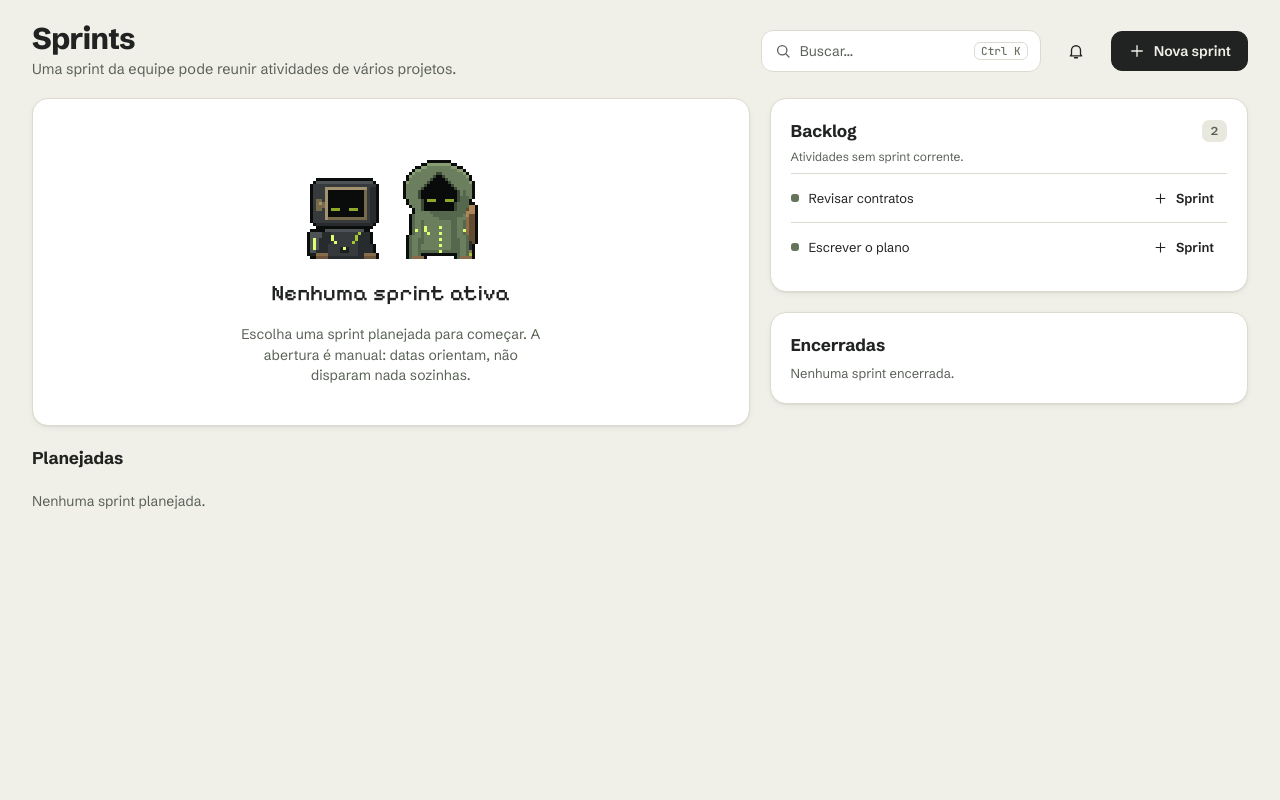
Scenario: Sprints › refuses dates in the wrong order
The width and height of the screenshot is (1280, 800).
Click the button "Nova sprint": (1179,51) [1111,31,1248,71]
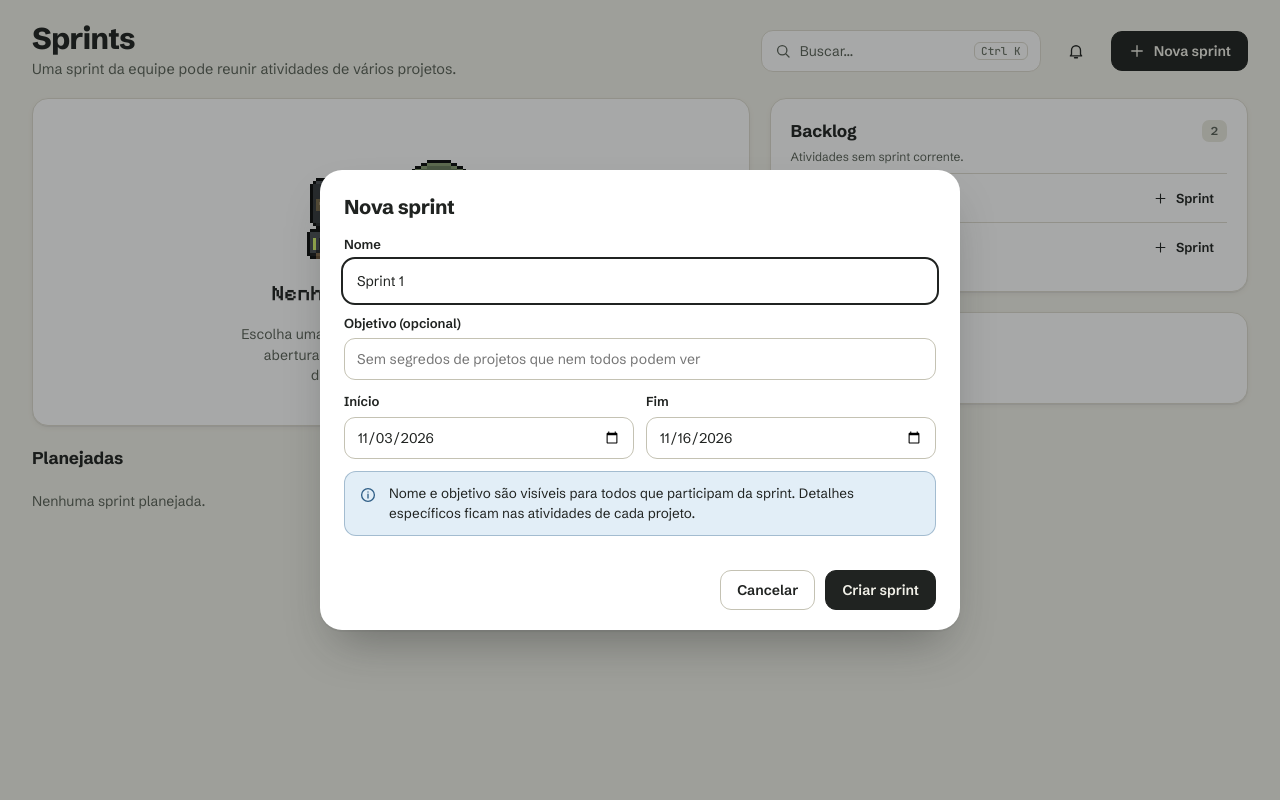
In the date field labelled "Início": (489,438) [344,417,634,459], type "2026-12-01"
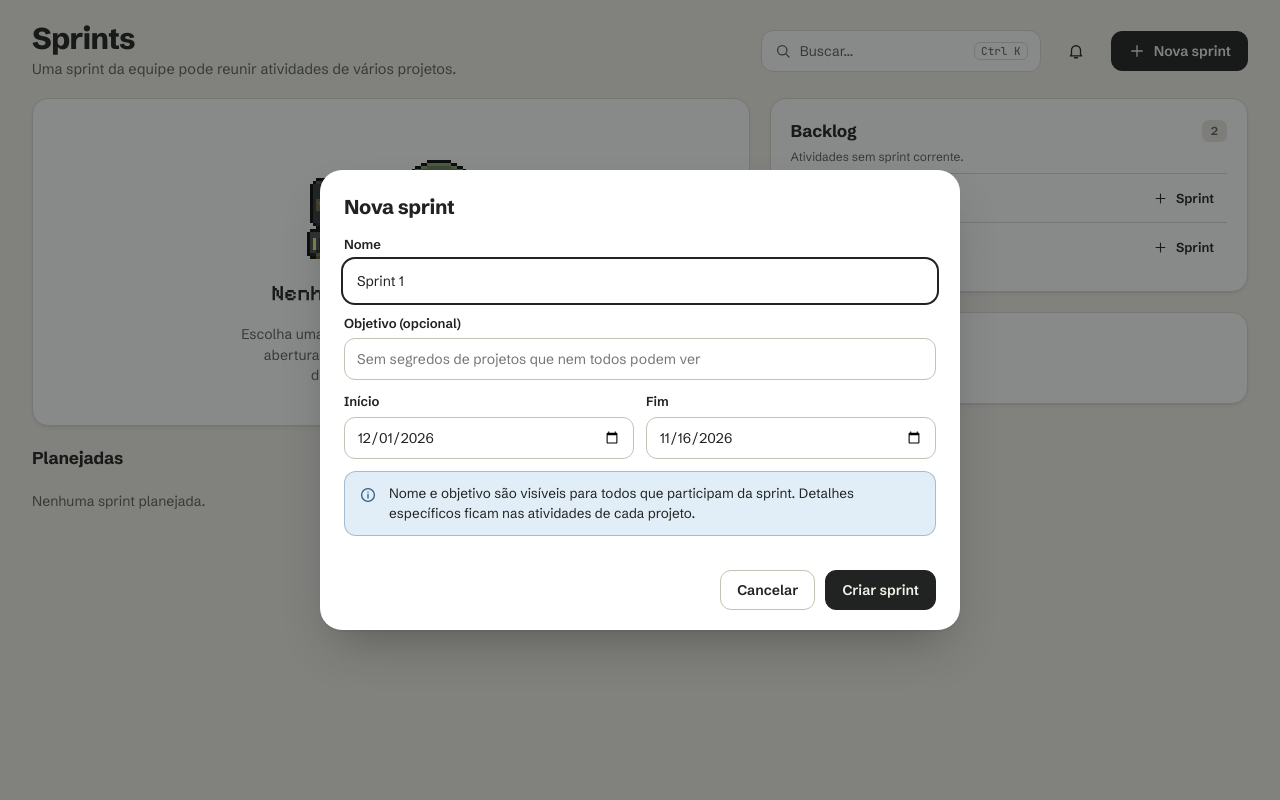
In the date field labelled "Fim": (791,438) [646,417,936,459], type "2026-11-01"
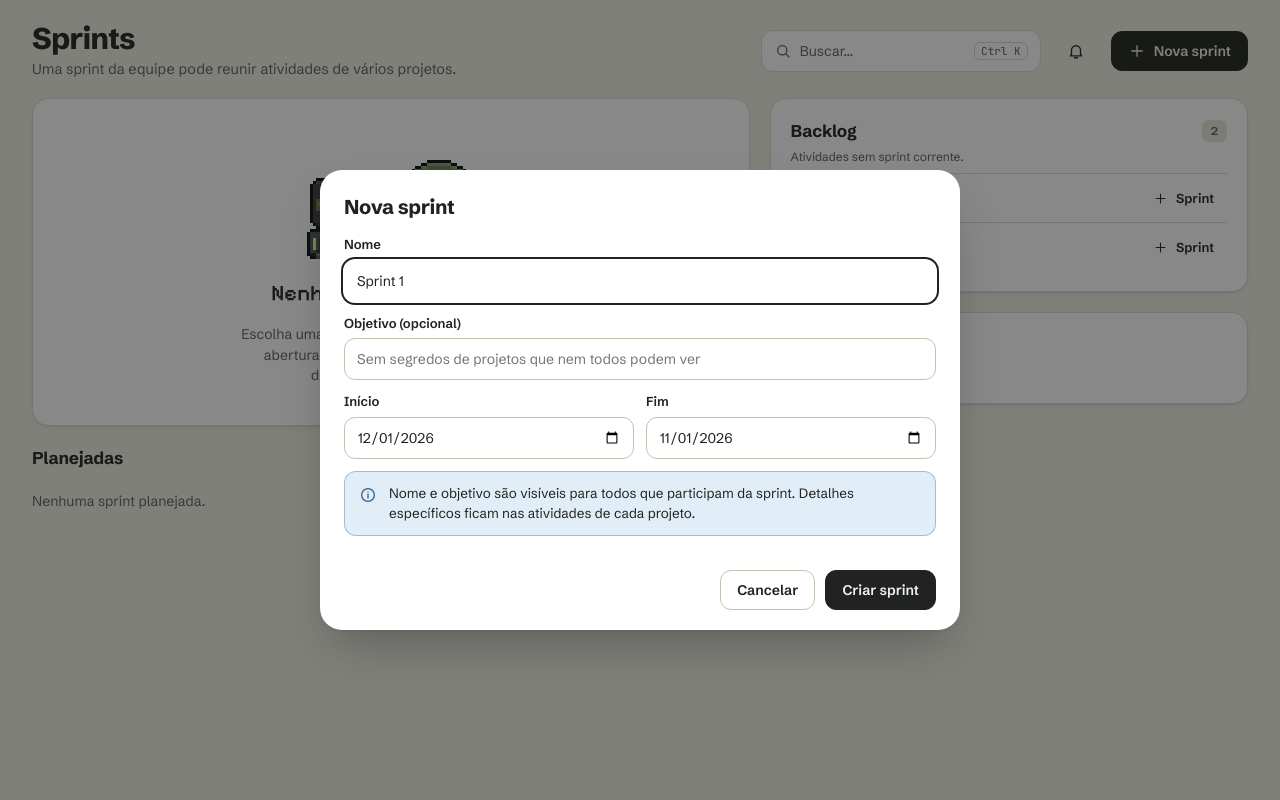
Submit the form labelled "Nome", box [320,227,960,630]
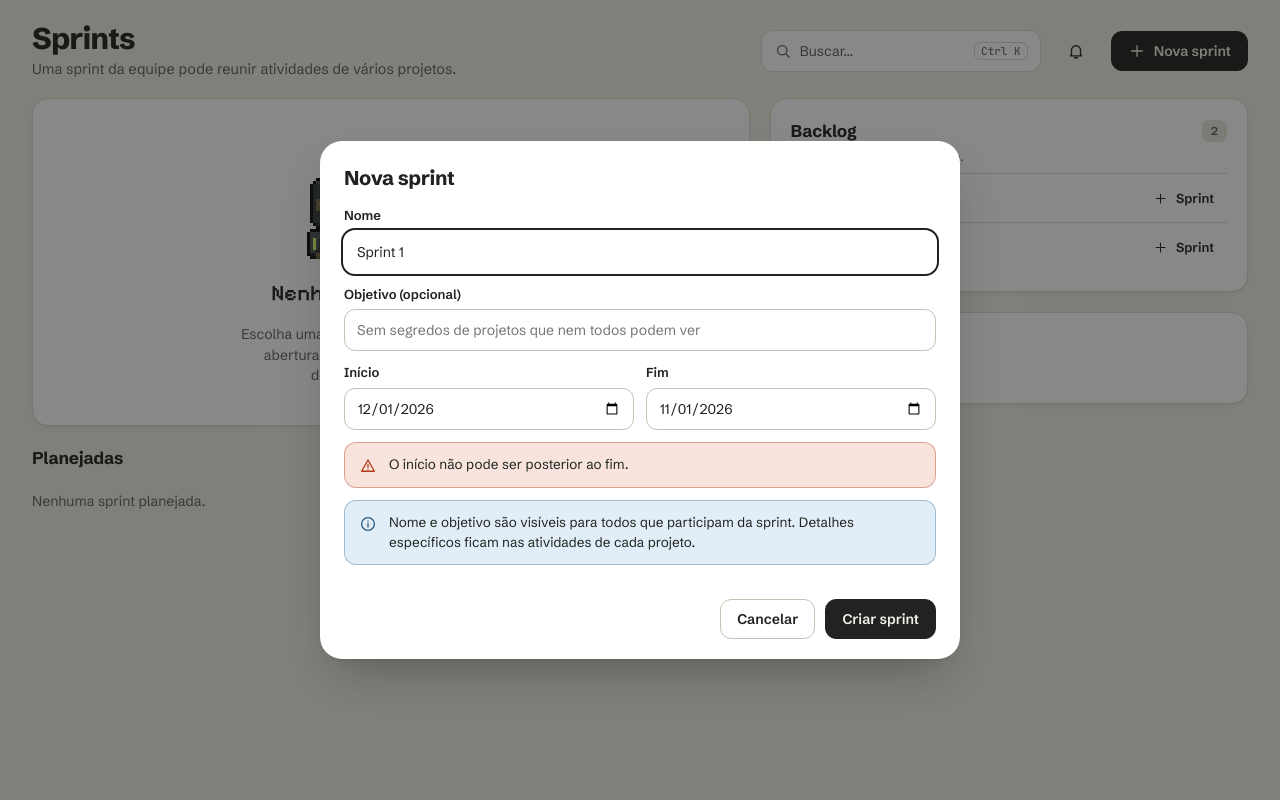
Check: the message "O início não pode ser posterior ao fim." is shown, box [344,442,936,488]
